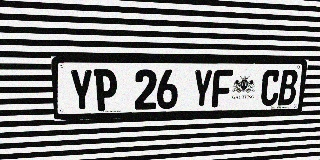2: (135, 69, 157, 110)
6: (157, 69, 178, 109)
B: (277, 70, 299, 105)
C: (260, 70, 281, 106)
F: (211, 69, 233, 107)
P: (94, 69, 117, 111)
Y: (69, 69, 94, 112), (191, 69, 213, 108)
